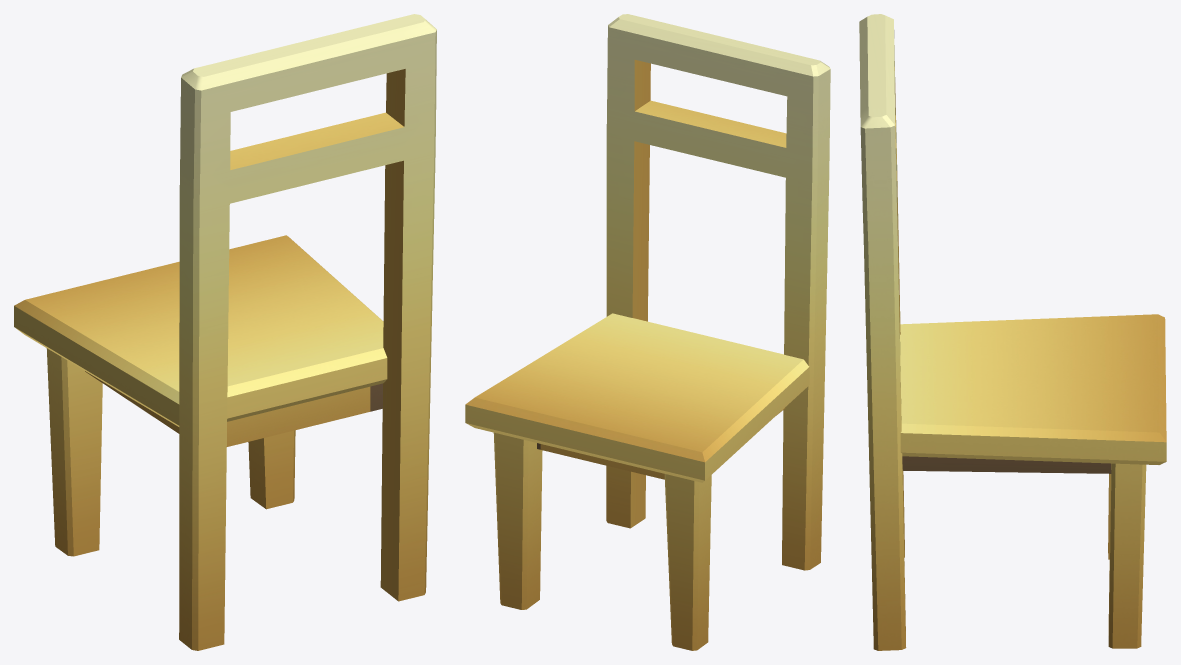
Rendered from kitchenchair.fbx.
3 renders of one model, left to right at view 1: azimuth 30°, elevation 25°; view 2: azimuth 150°, elevation 25°; view 3: azimuth 270°, elevation 25°, orthographic. The views are drawn at different scales.
Visible parts, largest first — view 1: kitchenchair; view 2: kitchenchair; view 3: kitchenchair.
Part boxes in pixels (box(x1,y1,x2,y2)): kitchenchair: box(14, 14, 436, 650); kitchenchair: box(465, 14, 830, 650); kitchenchair: box(859, 14, 1166, 650).
Size of the model in its own units: 1.4 by 2.8 by 1.46.
